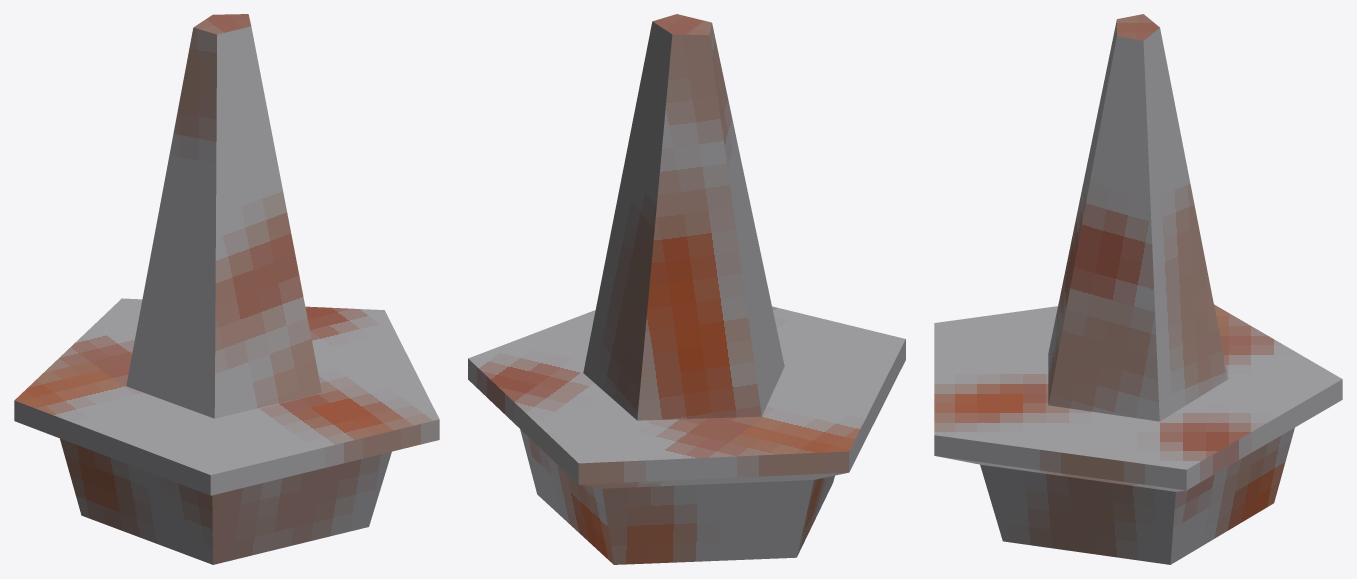
The model's file is bullet_screw.fbx.
3 views of the same model, side by side, from view 1: azimuth 30°, elevation 25°; view 2: azimuth 150°, elevation 25°; view 3: azimuth 270°, elevation 25° (orthographic). The views are drawn at different scales.
Parts seen in each view (by area): view 1: root; view 2: root; view 3: root.
Part boxes in pixels (bbox=[...]): root: bbox=[14, 14, 439, 564]; root: bbox=[468, 14, 905, 564]; root: bbox=[934, 14, 1342, 564].
Size of the model in its own units: 118 by 144 by 112.
1 material, 1 textured.
